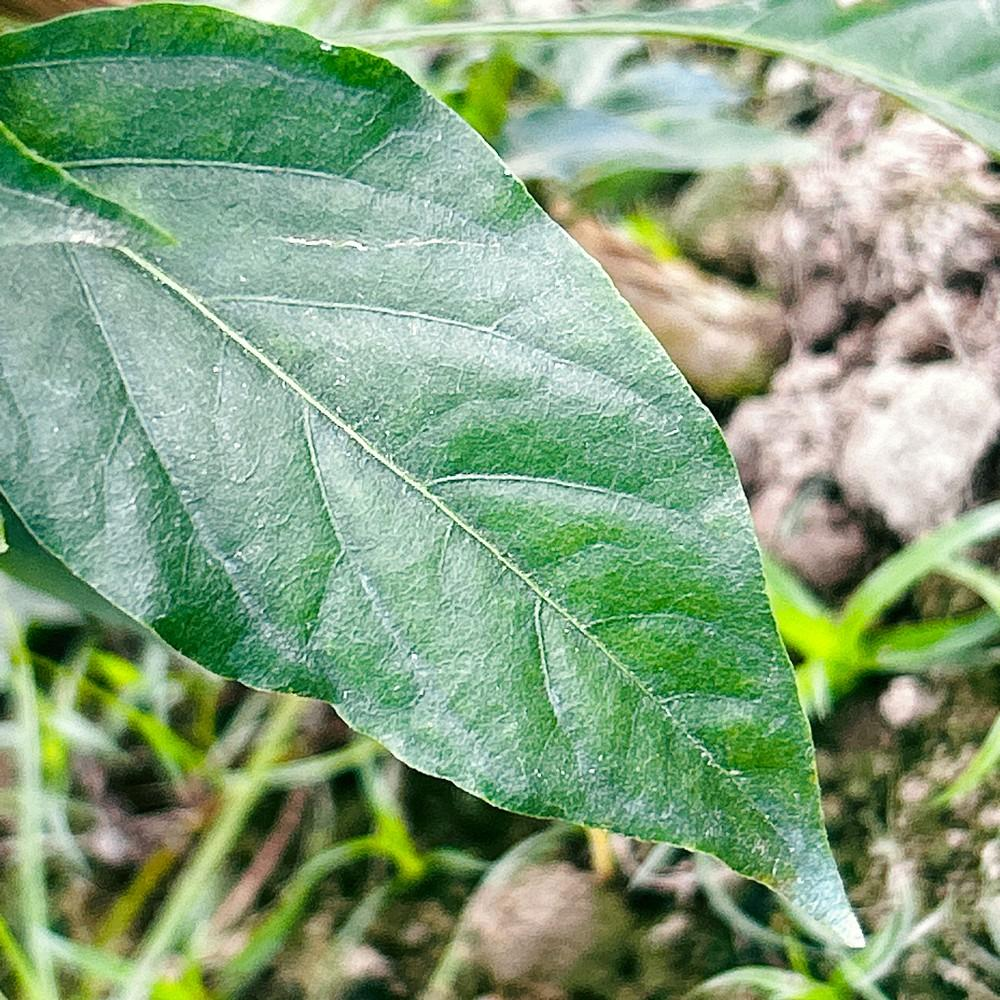Daun Cabai Sehat: (0, 1, 867, 950)
